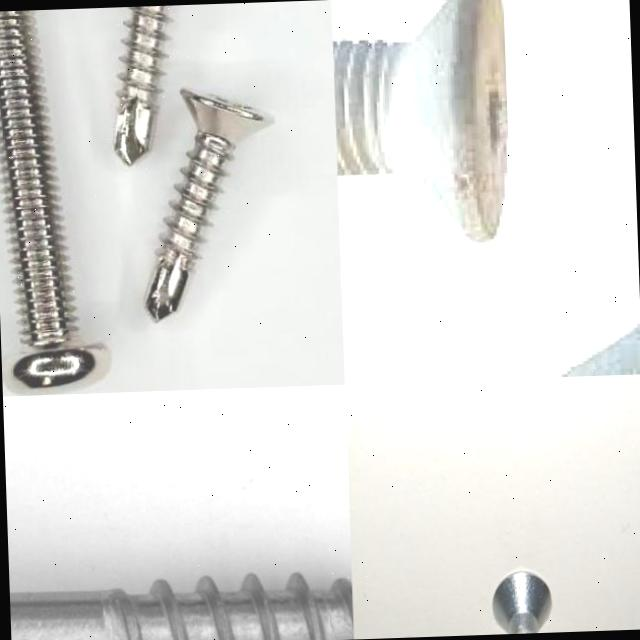Screw: (6, 482, 353, 640), (332, 0, 512, 242), (0, 10, 108, 394), (145, 89, 271, 321), (114, 5, 168, 165), (492, 572, 551, 634)
